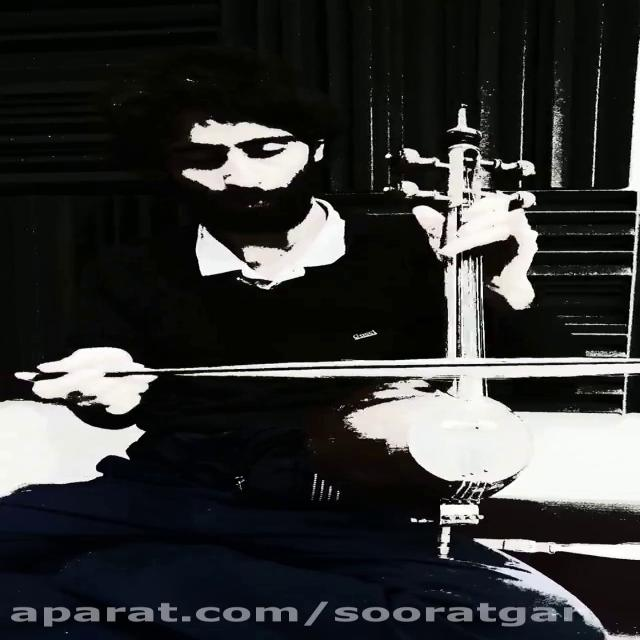Kamanche: (277, 103, 560, 518)
